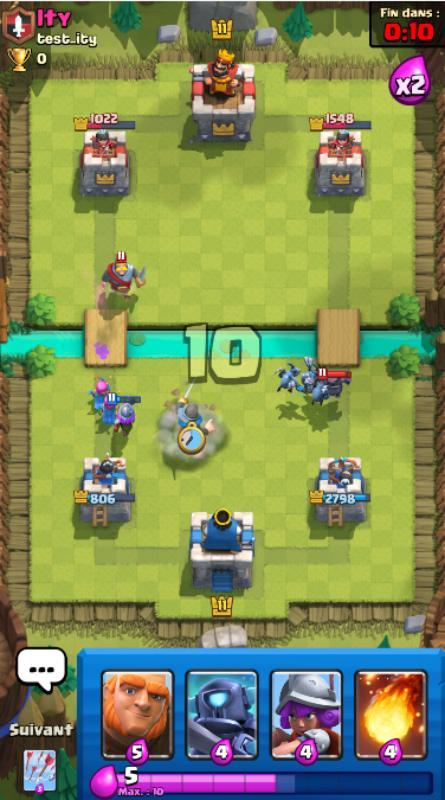archere: (88, 375, 113, 412), (98, 390, 123, 426)
chevalier: (175, 372, 218, 437), (99, 249, 148, 303)
gargouille: (274, 360, 302, 394), (299, 356, 325, 390), (305, 376, 332, 405)
mini_PEKKA: (317, 367, 353, 399)
mousquetaire: (107, 392, 142, 438)
